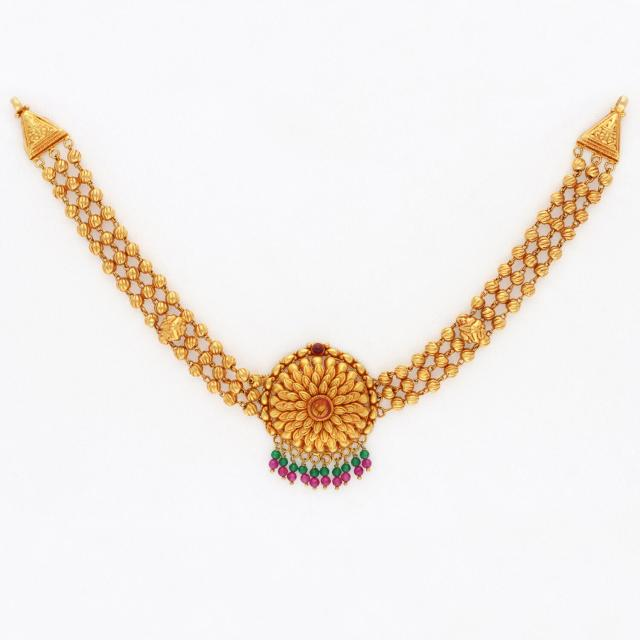missing gem: (311, 398, 332, 419)
